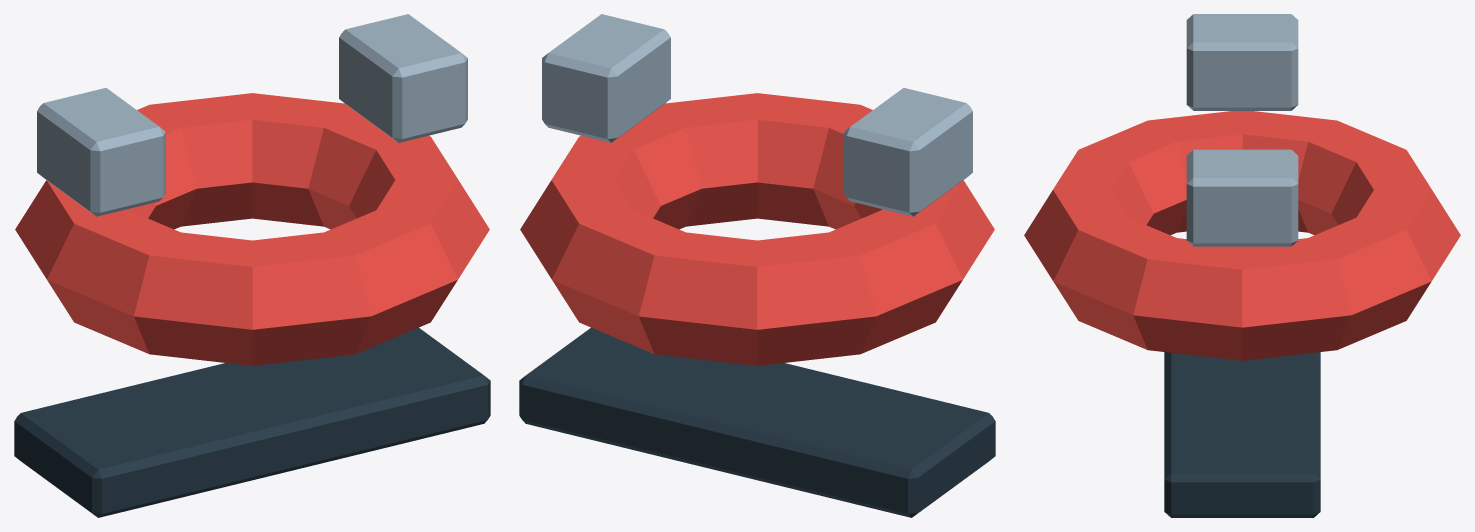
File: magnet_machine.glb
3 renders of one model, left to right at view 1: azimuth 30°, elevation 25°; view 2: azimuth 150°, elevation 25°; view 3: azimuth 270°, elevation 25°, orthographic. The views are drawn at different scales.
Visible parts, largest first — view 1: magnet_machine; view 2: magnet_machine; view 3: magnet_machine.
Part boxes in pixels (x1=…): magnet_machine: x1=14, y1=14, x2=490, y2=517; magnet_machine: x1=519, y1=14, x2=995, y2=517; magnet_machine: x1=1024, y1=14, x2=1460, y2=517.
Bounding box in the file's own units: 1.96 × 1.66 × 1.96.
